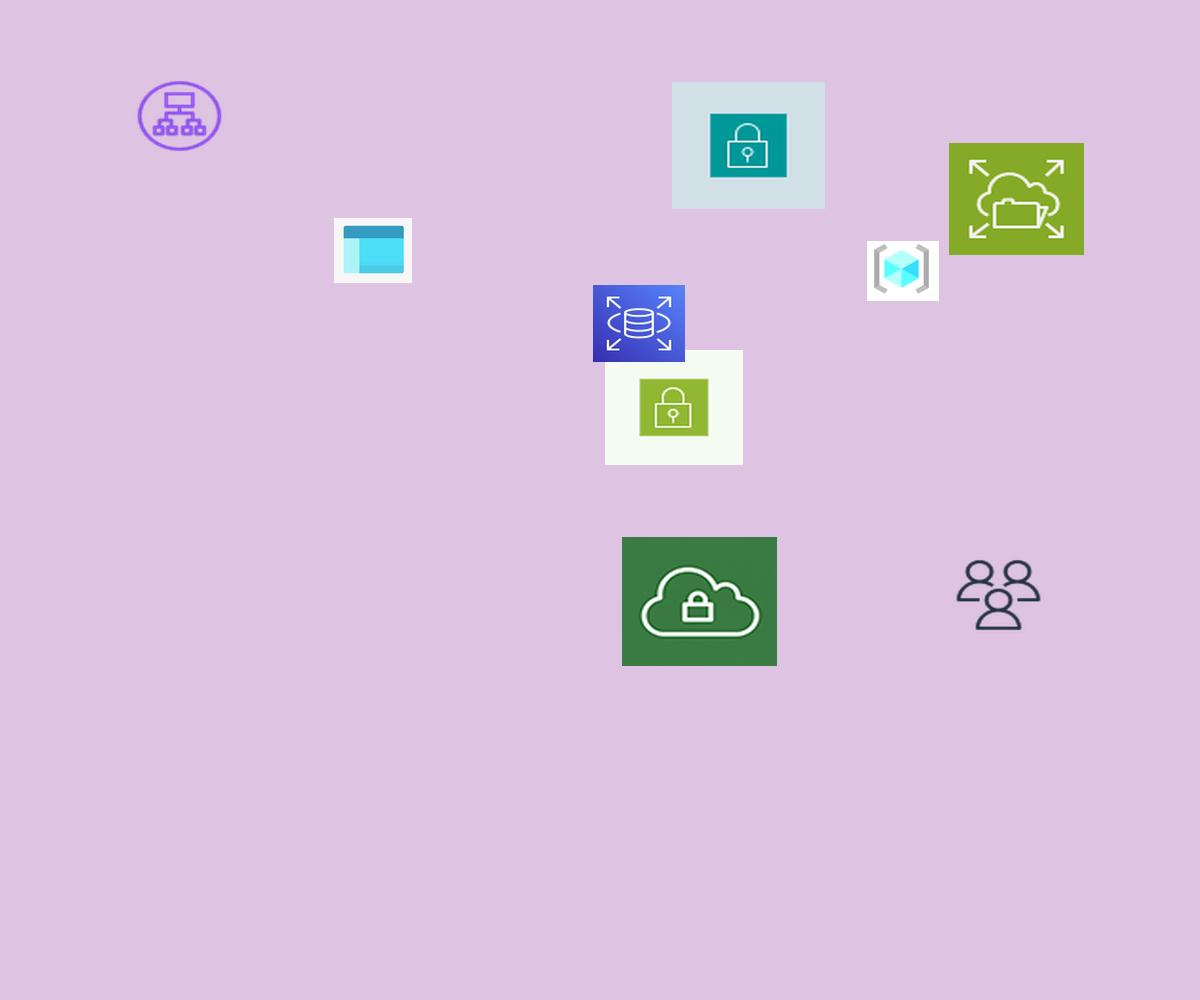AWS-EFS: (949, 143, 1084, 255)
AWS-Private-subnet: (672, 82, 825, 209)
AWS-Private_vpc: (622, 537, 777, 666)
AWS-Public-subnet: (605, 350, 743, 465)
AWS-RDS: (593, 285, 685, 362)
AWS-Res_Elastic-Load-Balancing_Application-Load-Balancer: (134, 78, 225, 154)
AWS-Res_Users: (953, 557, 1044, 633)
Azure_management-portal: (334, 218, 412, 283)
Azure_resource_group: (867, 241, 939, 301)
